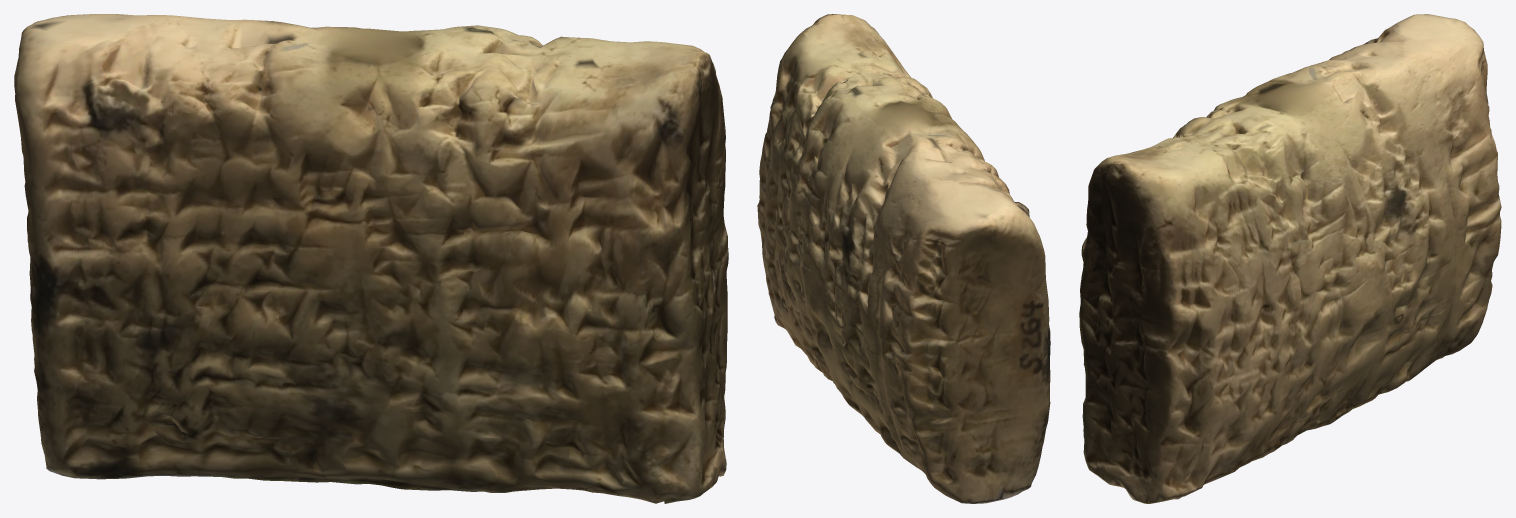
Rendered from old-babylonian_cuneiform_tablet_s264.glb.
The picture shows the model from 3 angles, left to right: view 1: azimuth 30°, elevation 25°; view 2: azimuth 150°, elevation 25°; view 3: azimuth 270°, elevation 25°; orthographic projection. The views are drawn at different scales.
Parts seen in each view (by area): view 1: Object_2; view 2: Object_2; view 3: Object_2.
Part boxes in pixels (x1,y1,x2,y2): Object_2: (14,14,728,503); Object_2: (757,14,1050,503); Object_2: (1079,14,1501,503).
Bounding box in the file's own units: 20.98 × 16.18 × 18.64.
1 material, 1 textured.
